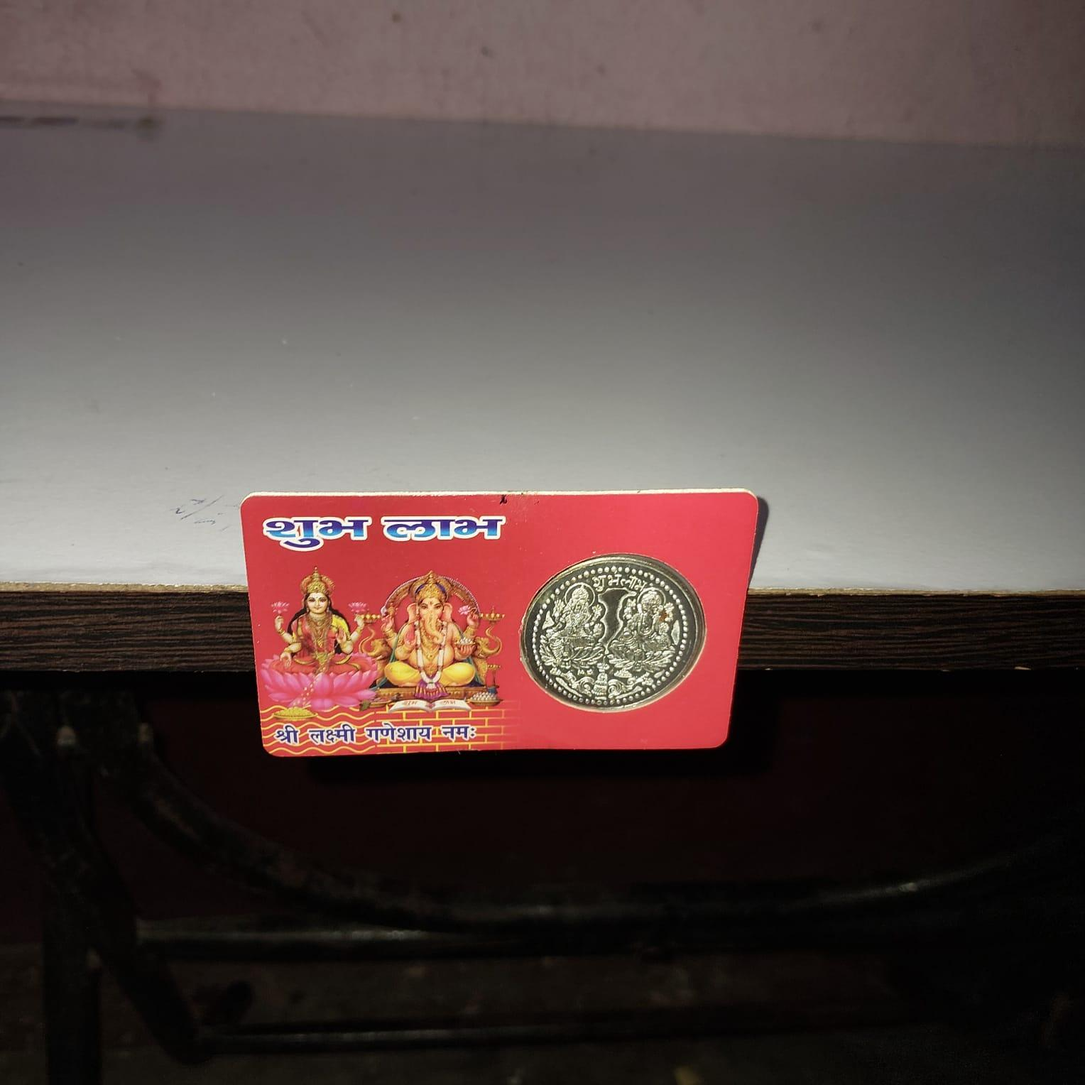blessing_card: (235, 486, 774, 774)
